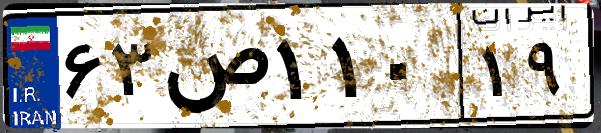0: (385, 28, 445, 110)
1: (270, 28, 330, 110), (330, 28, 385, 110), (475, 38, 525, 113)
3: (110, 28, 158, 98)
6: (57, 26, 110, 100)
9: (525, 38, 570, 115)
ص: (158, 20, 270, 120)
